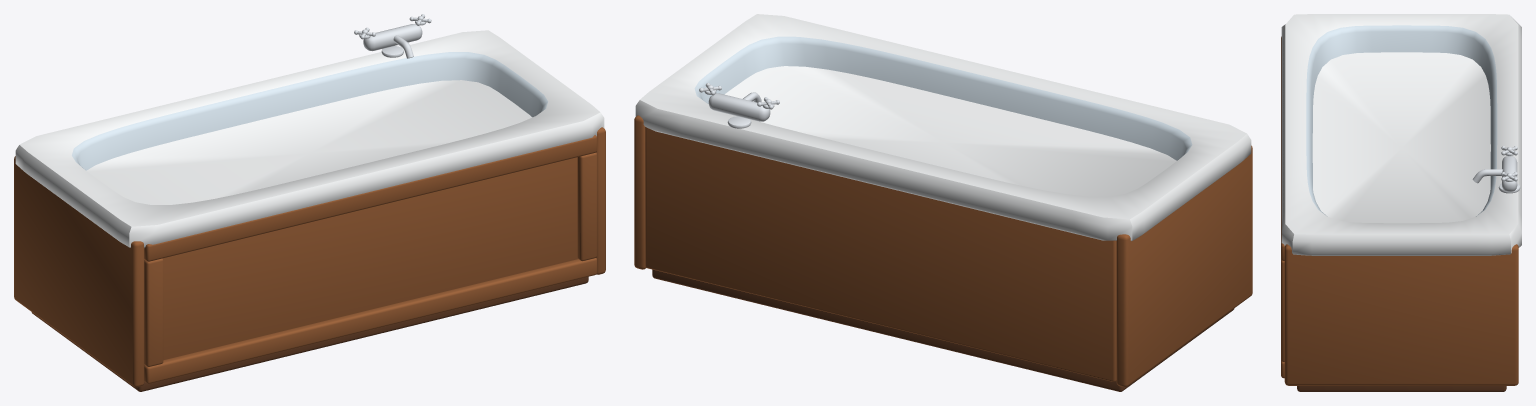
The model's file is banheira_embutida_madeira.glb.
3 renders of one model, left to right at view 1: azimuth 30°, elevation 25°; view 2: azimuth 150°, elevation 25°; view 3: azimuth 270°, elevation 25°, orthographic. The views are drawn at different scales.
Visible parts, largest first — view 1: banheira_embutida_madeira; view 2: banheira_embutida_madeira; view 3: banheira_embutida_madeira.
Part boxes in pixels (left/top/right/bottom): banheira_embutida_madeira: left=14, top=14, right=605, bottom=391; banheira_embutida_madeira: left=634, top=14, right=1252, bottom=391; banheira_embutida_madeira: left=1281, top=14, right=1521, bottom=391.
Bounding box in the file's own units: 1.72 × 0.6895 × 0.782.
Materials: 1 (1 with a texture image).
